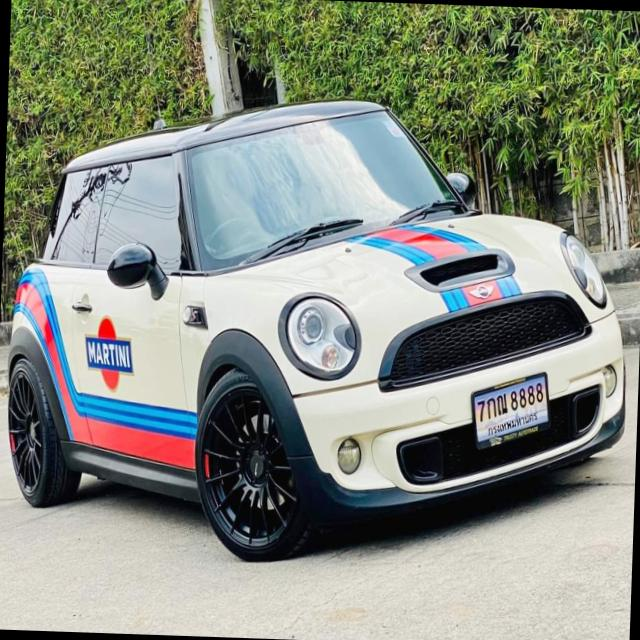license_plate: (468, 366, 552, 452)
